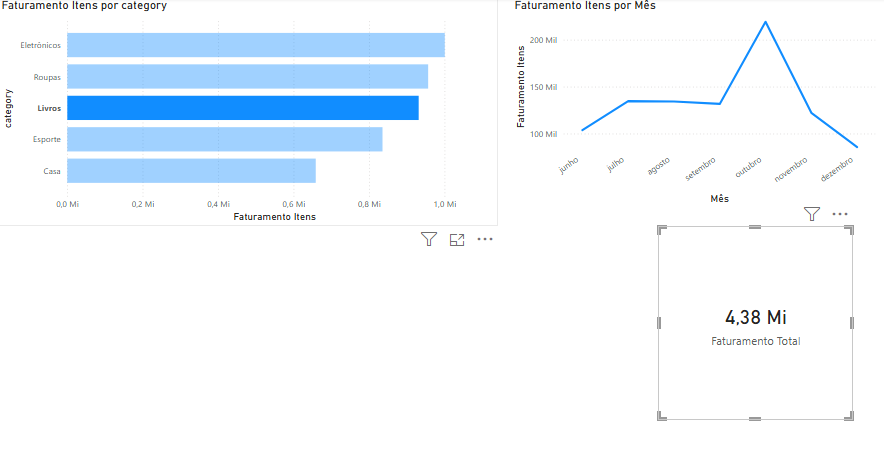

The page's visual inventory and layout, read from the dashboard file:
{"tool":"powerbi","page":{"name":"Página 1","canvas":[1280,720],"ordinal":0},"visuals":[{"type":"card","fields":{"Values":["public orders.Faturamento Total"]},"box":[944.3,325.7,280,278.6],"z":0},{"type":"clusteredBarChart","fields":{"Category":["public products.category"],"Y":["public order_items.Faturamento Itens"]},"box":[0,0,715.2,325.8],"z":1000},{"type":"lineChart","fields":{"Y":["public order_items.Faturamento Itens"],"Category":["public orders.order_date.Variation.Hierarquia de datas.Ano","public orders.order_date.Variation.Hierarquia de datas.Trimestre","public orders.order_date.Variation.Hierarquia de datas.Mês","public orders.order_date.Variation.Hierarquia de datas.Dia"]},"box":[735,0,526.7,300],"z":2000}]}

Visuals, with their boxes on the page's 1280x720 design canvas (x1, y1, x2, y2). These are canvas units, not pixel positions in the 884x471 screenshot, which may show the page scaled, cropped or inside an application window:
card - public orders.Faturamento Total: box(944, 326, 1224, 604)
clusteredBarChart - public products.category x public order_items.Faturamento Itens: box(0, 0, 715, 326)
lineChart - public order_items.Faturamento Itens x public orders.order_date.Variation.Hierarquia de datas.Ano: box(735, 0, 1262, 300)
